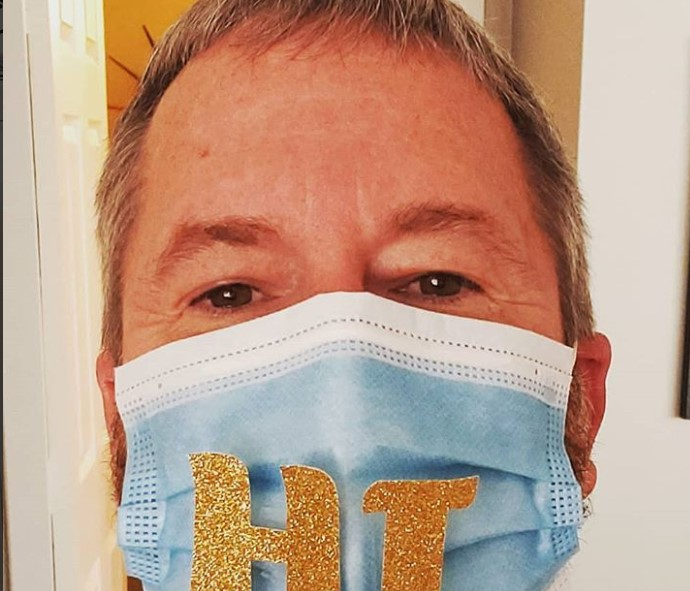face_with_mask: (87, 4, 612, 588)
